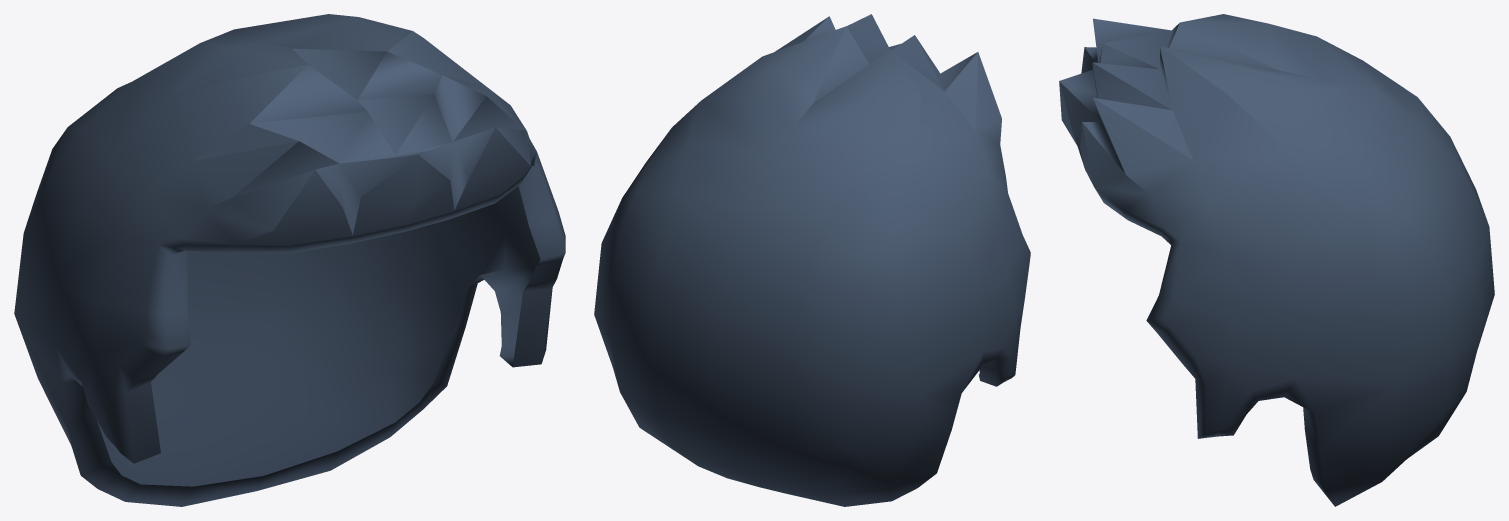
Rendered from Hair_14.fbx.
3 renders of one model, left to right at view 1: azimuth 30°, elevation 25°; view 2: azimuth 150°, elevation 25°; view 3: azimuth 270°, elevation 25°, orthographic. The views are drawn at different scales.
Parts seen in each view (by area): view 1: Hair_14; view 2: Hair_14; view 3: Hair_14.
Boxes of the visible parts, x1,y1,x2,y2 form: Hair_14: (14, 14, 565, 506); Hair_14: (594, 14, 1030, 506); Hair_14: (1059, 14, 1494, 506).
Size of the model in its own units: 52.84 by 56.39 by 51.12.
